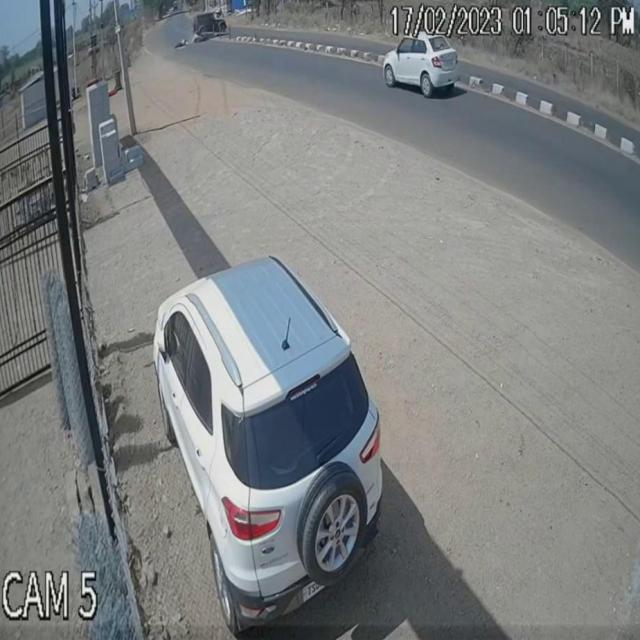accident: (170, 9, 230, 57)
